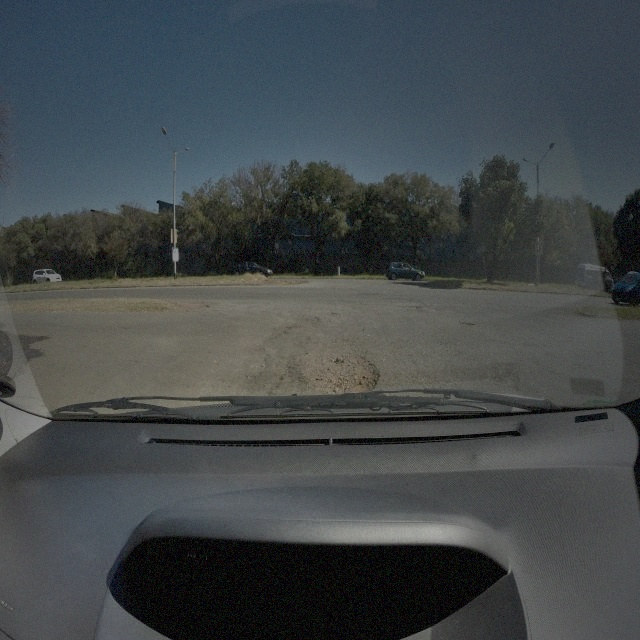pothole: (297, 338, 381, 394), (178, 299, 208, 315), (300, 314, 320, 327), (414, 304, 433, 314), (461, 320, 475, 328)
